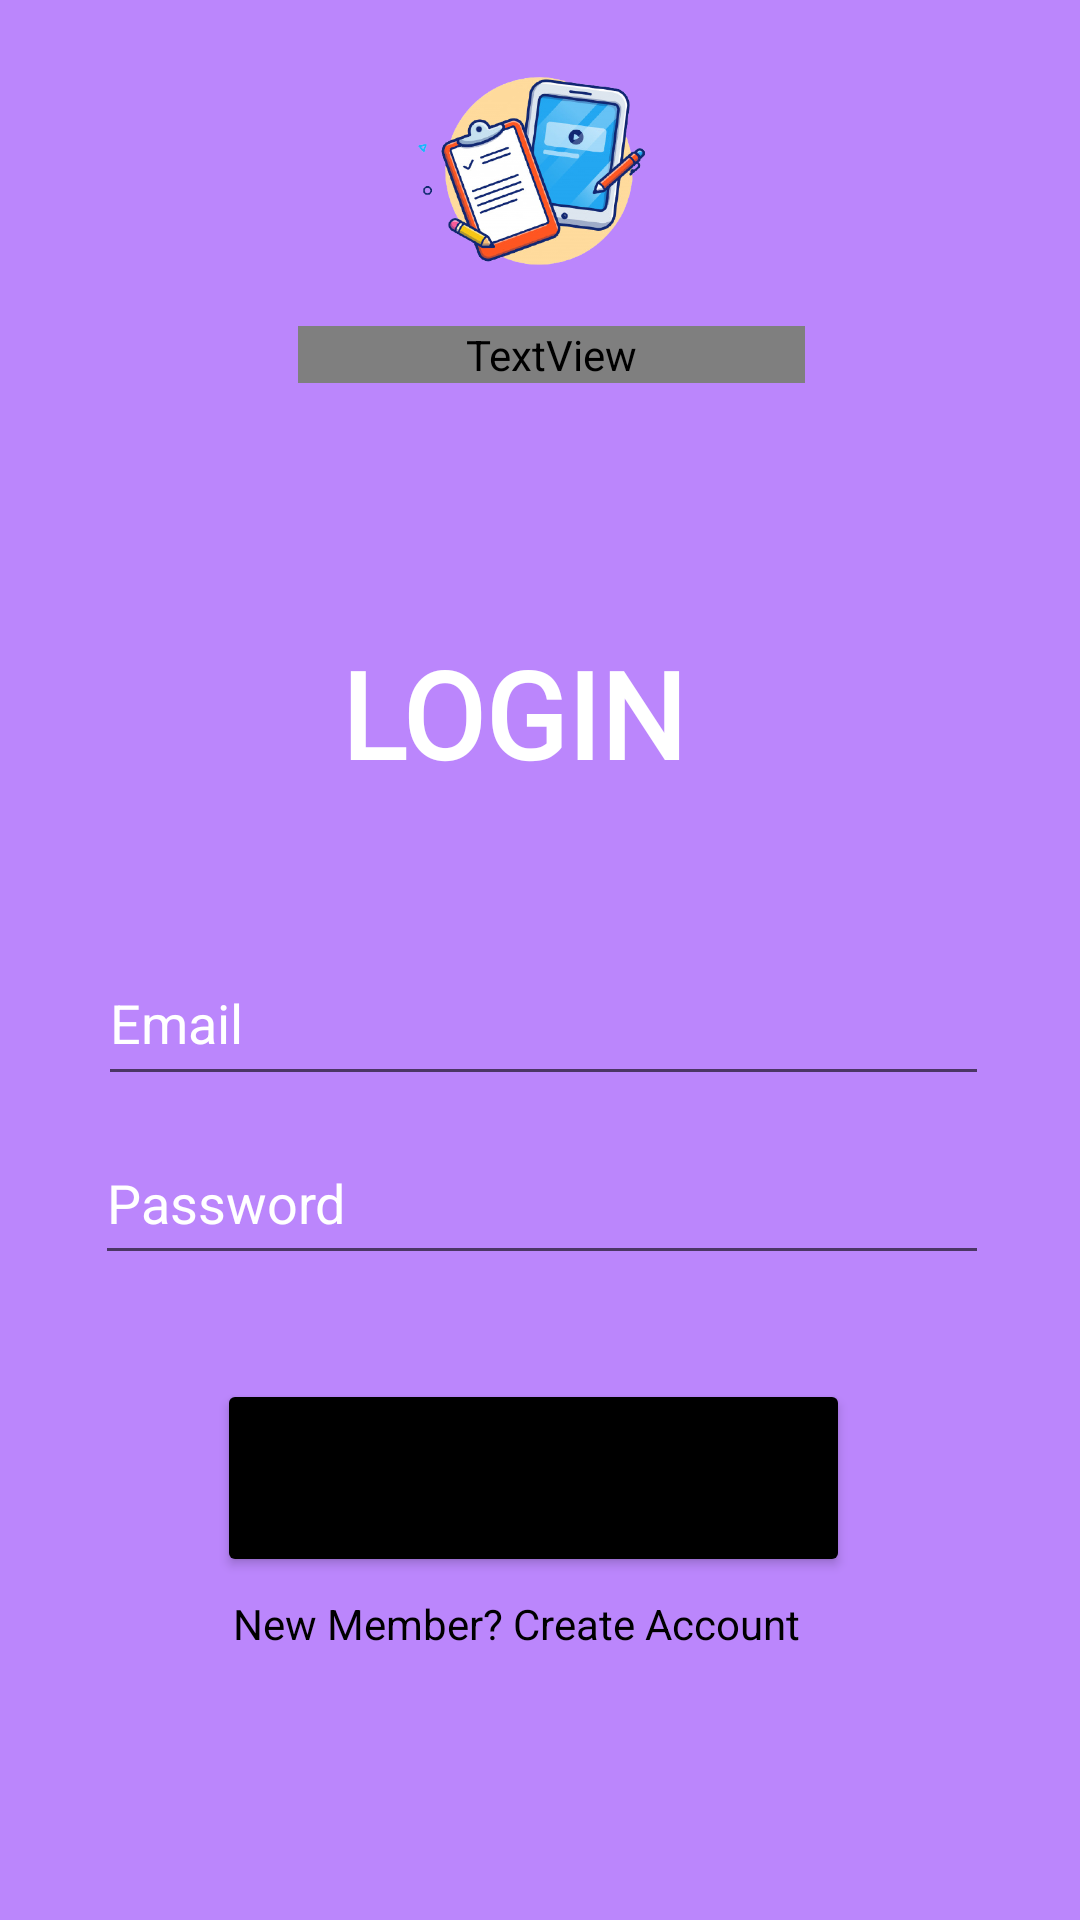

Named icons in this screenshot (1080w x 1920h) and their bounding boxes, {"left": x1, "top": y1, "right": x2, "bottom": y2}:
online: {"left": 418, "top": 77, "right": 645, "bottom": 265}
